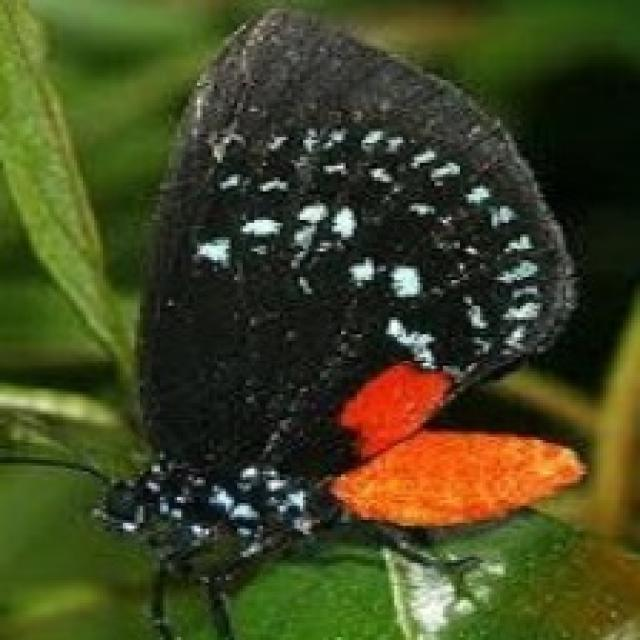butterfly: (0, 3, 589, 637)
